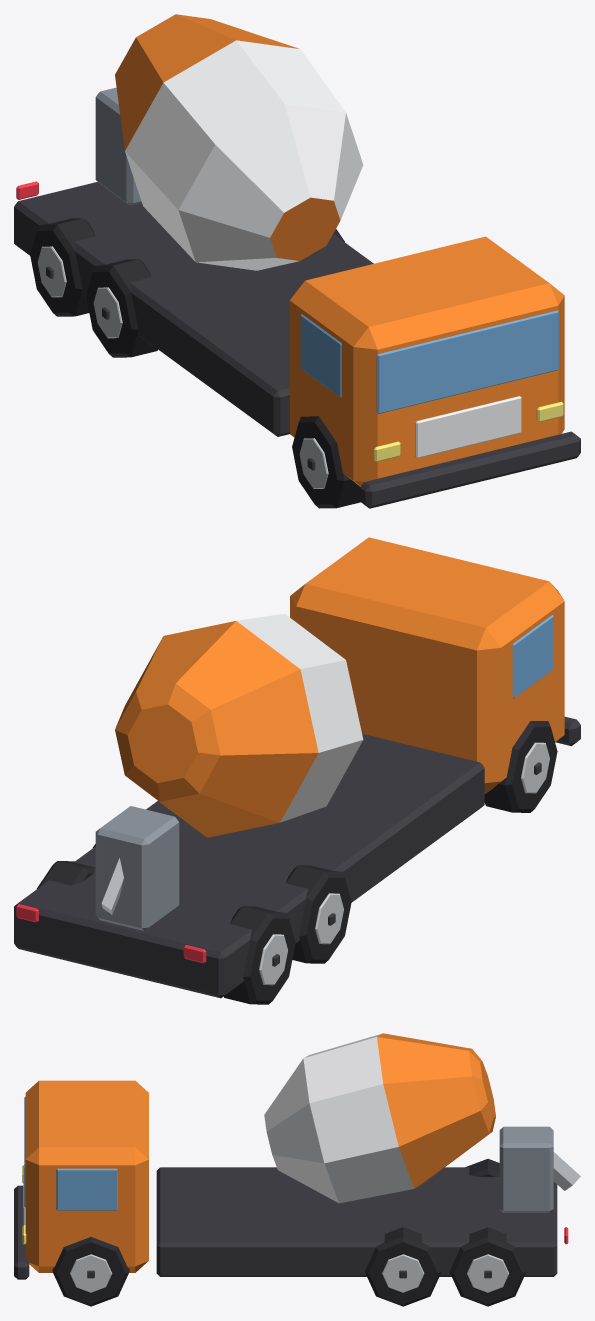
File: CementMixer.fbx
3 views of the same model, one above another, from view 1: azimuth 30°, elevation 25°; view 2: azimuth 150°, elevation 25°; view 3: azimuth 270°, elevation 25° (orthographic). The views are drawn at different scales.
Parts seen in each view (by area): view 1: CementMixer, CementMixer_Drum, CementMixer_WheelMR, CementMixer_WheelBR, CementMixer_WheelFR; view 2: CementMixer, CementMixer_Drum, CementMixer_WheelBR, CementMixer_WheelMR, CementMixer_WheelFR, CementMixer_WheelBL; view 3: CementMixer, CementMixer_Drum, CementMixer_WheelML, CementMixer_WheelBL, CementMixer_WheelFL, CementMixer_WheelBR.
Part boxes in pixels (x1=…): CementMixer: x1=14, y1=87, x2=580, y2=508; CementMixer_Drum: x1=115, y1=14, x2=363, y2=270; CementMixer_WheelMR: x1=86, y1=259, x2=157, y2=357; CementMixer_WheelBR: x1=30, y1=218, x2=95, y2=316; CementMixer_WheelFR: x1=292, y1=416, x2=360, y2=508; CementMixer: x1=14, y1=537, x2=580, y2=998; CementMixer_Drum: x1=115, y1=613, x2=363, y2=837; CementMixer_WheelBR: x1=223, y1=906, x2=295, y2=1004; CementMixer_WheelMR: x1=286, y1=865, x2=351, y2=963; CementMixer_WheelFR: x1=484, y1=721, x2=557, y2=812; CementMixer_WheelBL: x1=37, y1=861, x2=95, y2=888; CementMixer: x1=14, y1=1080, x2=580, y2=1279; CementMixer_Drum: x1=264, y1=1033, x2=495, y2=1203; CementMixer_WheelML: x1=364, y1=1227, x2=441, y2=1306; CementMixer_WheelBL: x1=449, y1=1227, x2=526, y2=1306; CementMixer_WheelFL: x1=52, y1=1237, x2=129, y2=1306; CementMixer_WheelBR: x1=465, y1=1158, x2=499, y2=1176.
Bounding box in the file's own units: 5.22 × 6.61 × 14.71.
1 material, 1 textured.
